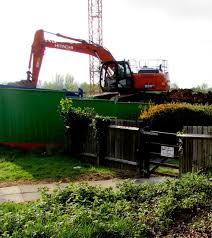excavator: (21, 28, 173, 102)
